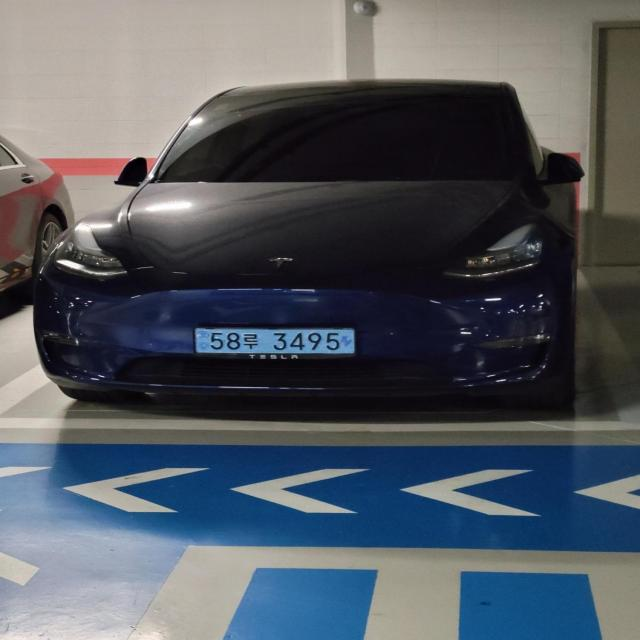EV_plate: (193, 320, 365, 366)
car: (28, 75, 588, 414)
